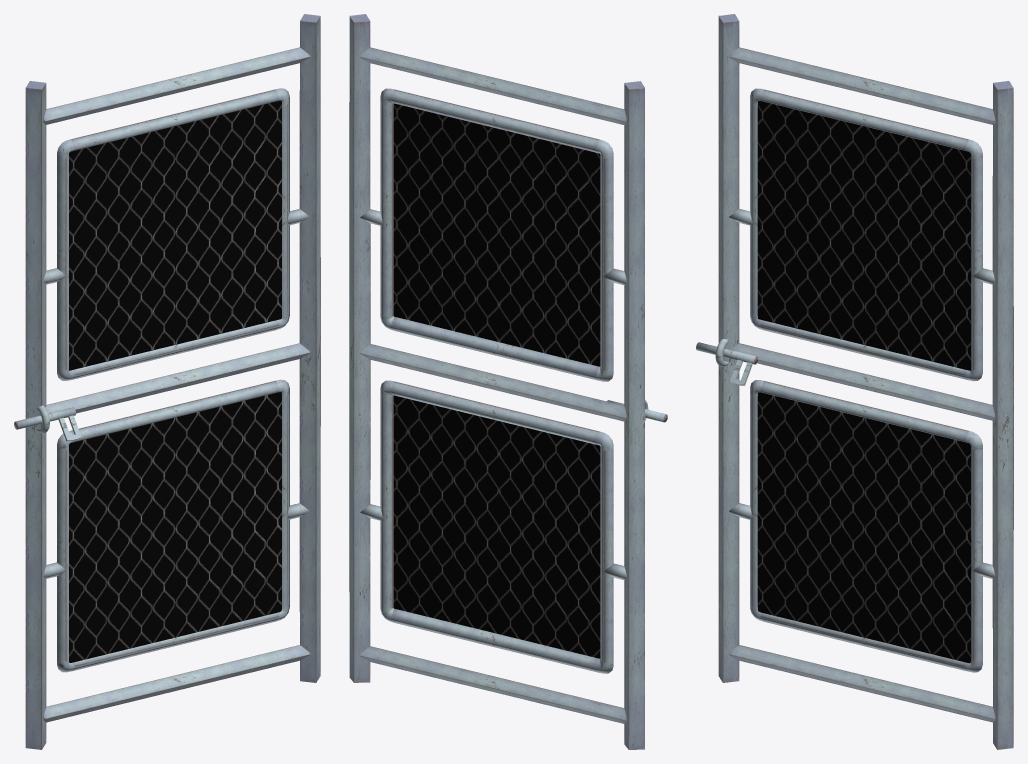
File: Fence_Metal_Door.fbx
3 renders of one model, left to right at view 1: azimuth 30°, elevation 25°; view 2: azimuth 150°, elevation 25°; view 3: azimuth 330°, elevation 25°, orthographic.
Parts seen in each view (by area): view 1: Porta; view 2: Porta; view 3: Porta.
Boxes of the visible parts, <box> form: Porta: <box>14,14,320,749</box>; Porta: <box>349,14,667,749</box>; Porta: <box>696,14,1013,749</box>.
Size of the model in its own units: 126 by 257 by 15.37.
